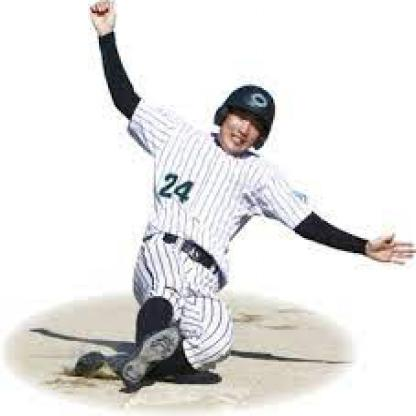Fall_Down: (66, 3, 414, 389)
